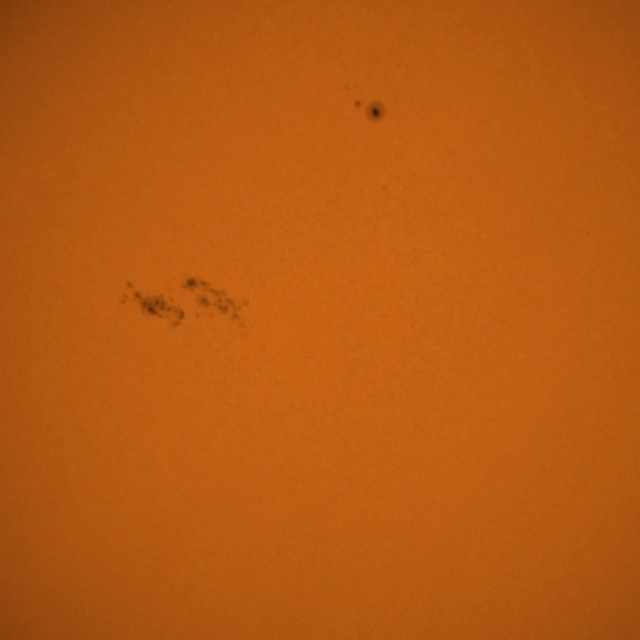sunspot: (170, 273, 243, 326), (128, 288, 194, 330), (353, 98, 386, 122)
